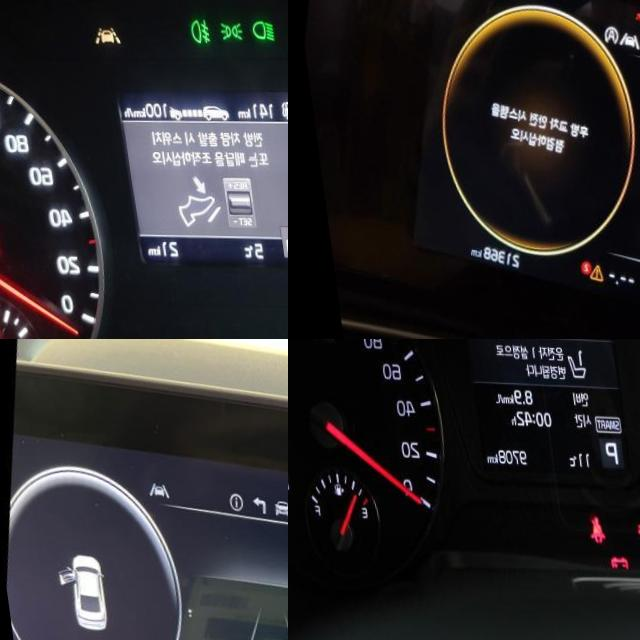Central Warning lamp: (574, 260, 594, 282)
FrontFogLight: (184, 15, 205, 43)
LaneCenteringOff: (87, 24, 116, 44), (143, 479, 168, 499), (612, 29, 636, 47)
Low beam: (245, 17, 270, 41)
SideLamp: (213, 18, 238, 40)
